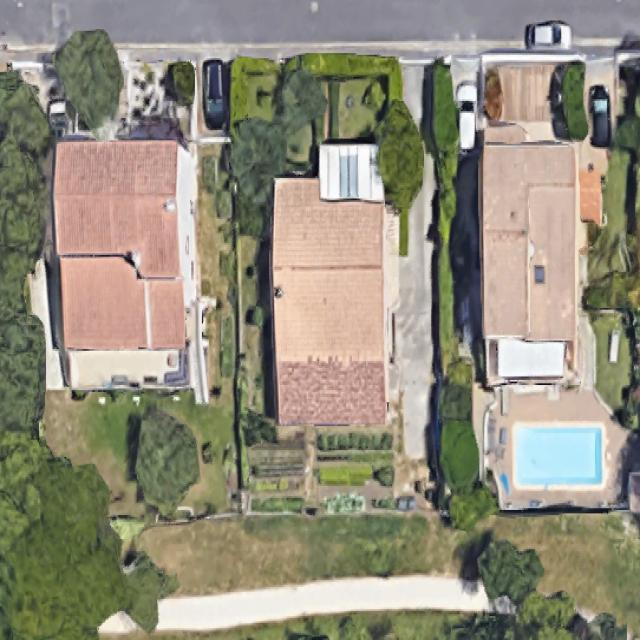maison: (265, 174, 392, 427), (54, 140, 196, 349), (477, 124, 577, 348)
